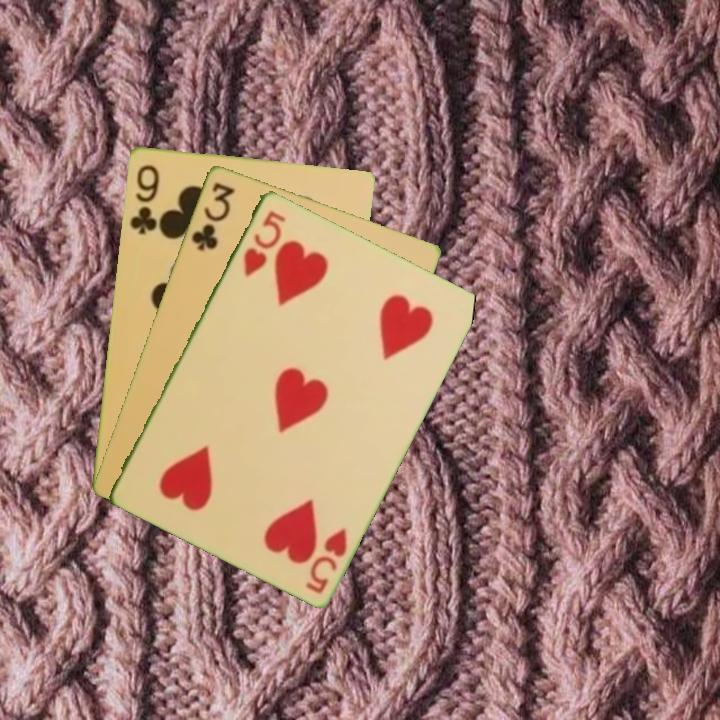3c: (187, 178, 238, 254)
5h: (239, 207, 289, 280), (301, 524, 350, 596)
9c: (126, 161, 162, 237)
